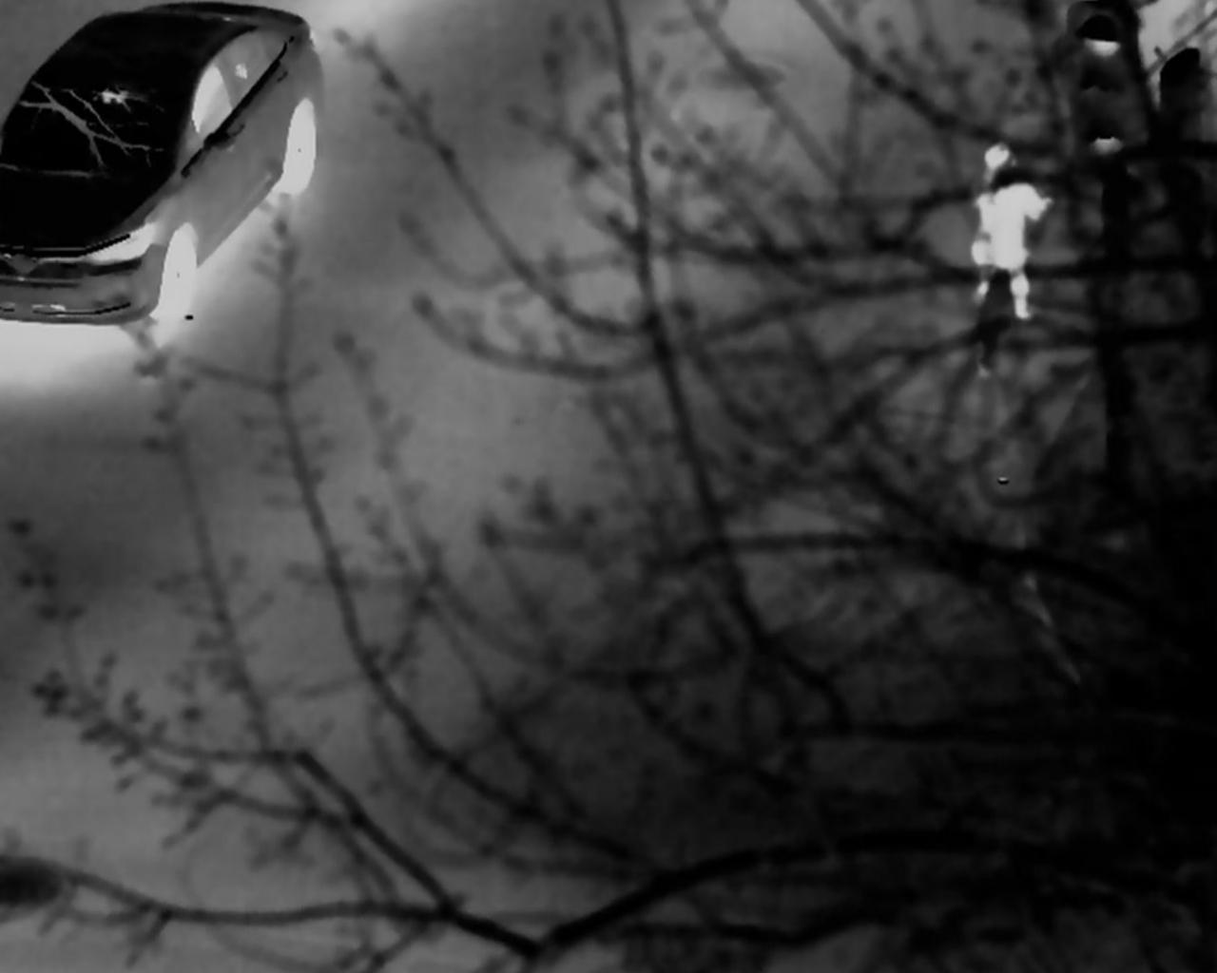person: (966, 150, 1055, 331)
